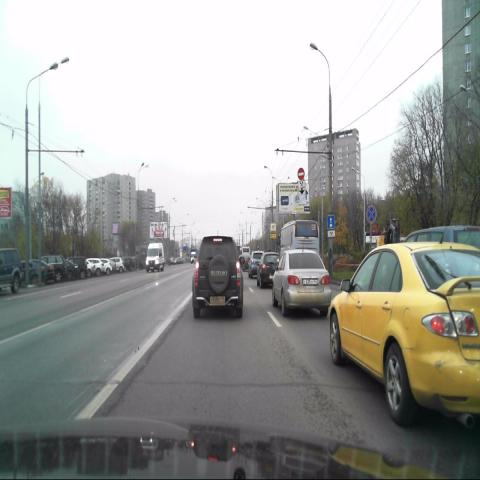3_1: (298, 167, 304, 180)
3_27: (366, 205, 376, 224)
5_14: (327, 216, 335, 229)
